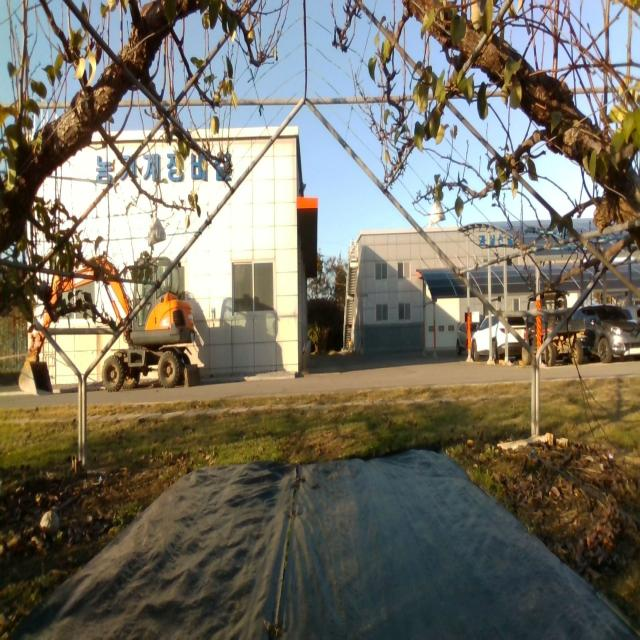pearbags: (147, 214, 168, 250), (429, 198, 446, 229)
